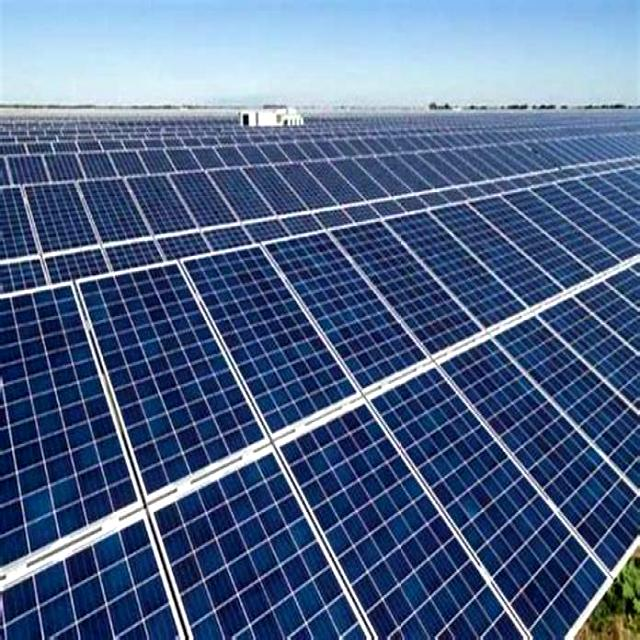crack: (230, 362, 540, 640), (358, 340, 617, 640), (432, 323, 640, 593), (119, 445, 394, 640), (66, 271, 282, 501), (266, 214, 434, 432), (173, 251, 361, 441), (326, 208, 490, 368), (376, 199, 546, 343), (421, 196, 576, 330), (458, 182, 610, 308)
